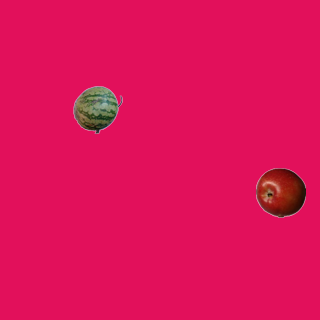Apple Braeburn: (255, 167, 305, 217)
Watermelon: (72, 84, 122, 134)
